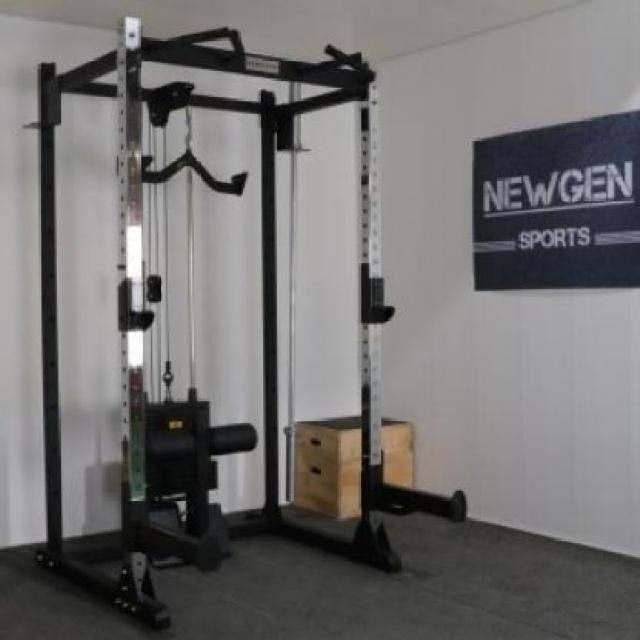Lat Pull Down: (19, 7, 492, 640)
